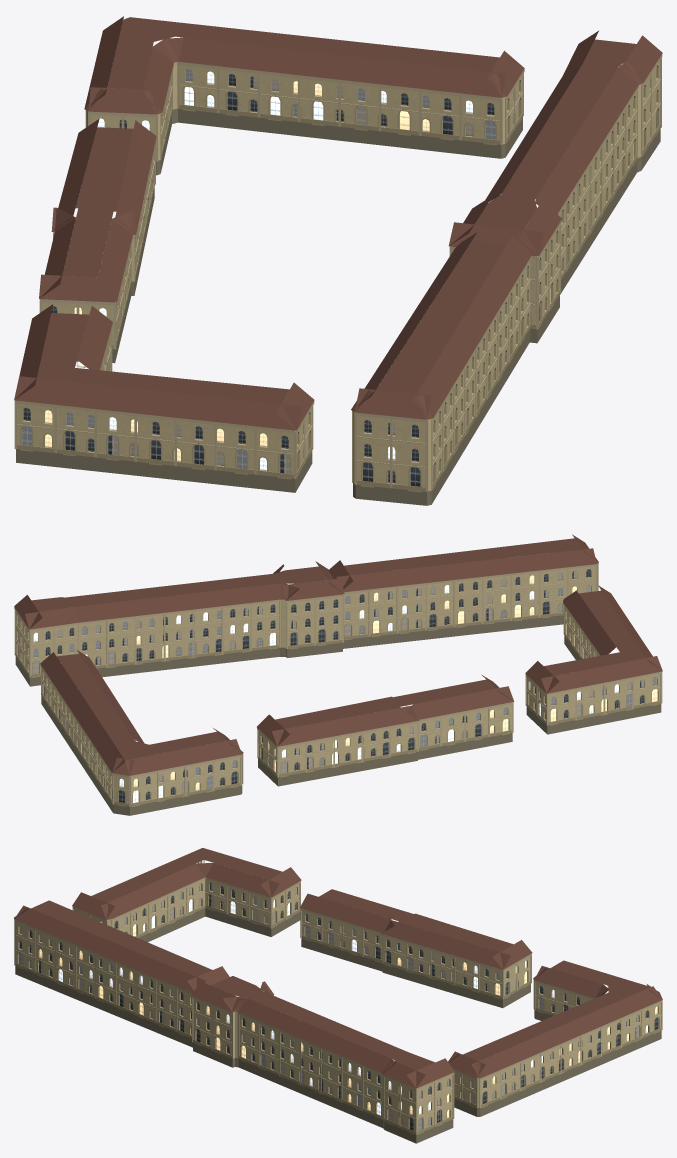
File: zeughaeuser.glb
3 renders of one model, top to bottom at view 1: azimuth 30°, elevation 25°; view 2: azimuth 150°, elevation 25°; view 3: azimuth 270°, elevation 25°, orthographic. The views are drawn at different scales.
Visible parts, largest first — view 1: zeughaeuser; view 2: zeughaeuser; view 3: zeughaeuser.
Part boxes in pixels (x1=…): zeughaeuser: x1=14, y1=16, x2=662, y2=505; zeughaeuser: x1=14, y1=534, x2=662, y2=815; zeughaeuser: x1=14, y1=848, x2=662, y2=1143.
Bounding box in the file's own units: 199 × 24.49 × 216.
3 materials, 3 textured.
